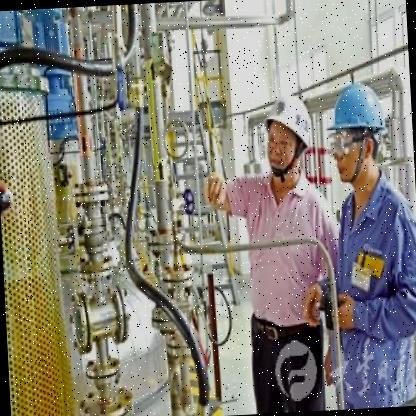capacete: (322, 79, 392, 188), (260, 91, 316, 183)
sem_colete_refletivo: (324, 177, 415, 404), (232, 168, 344, 328)
